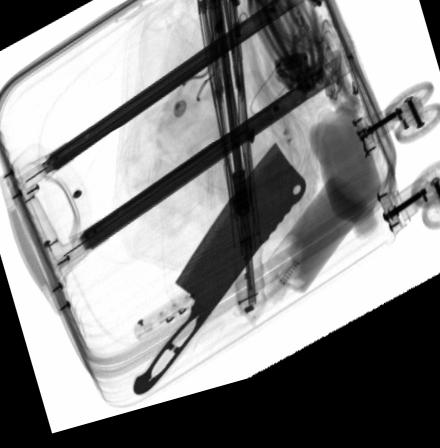Knife: (133, 158, 306, 403)
